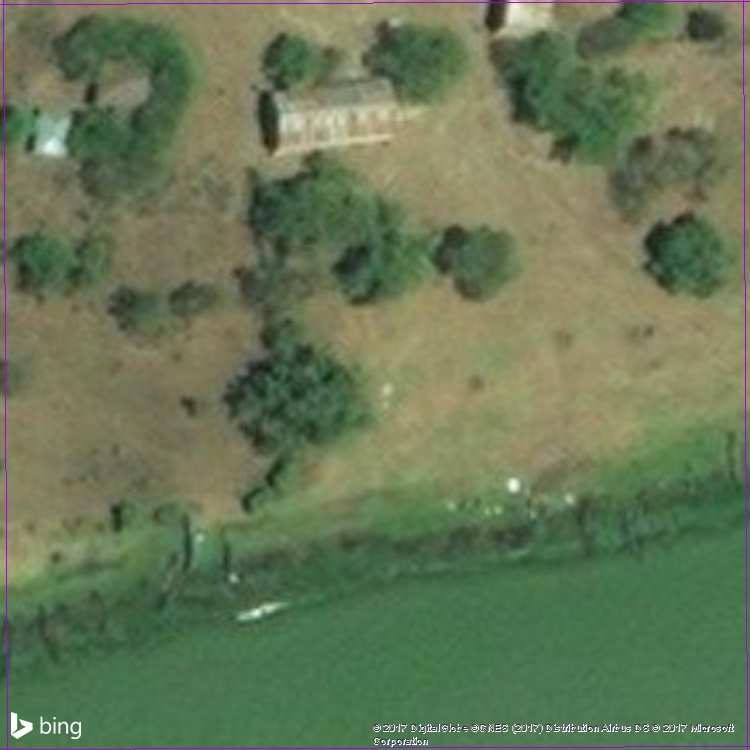boat: (26, 596, 68, 677), (632, 478, 672, 559), (610, 489, 647, 570), (568, 488, 601, 569), (52, 585, 82, 664), (171, 504, 202, 578), (150, 552, 183, 621), (79, 582, 114, 644), (722, 421, 747, 506), (215, 531, 246, 593), (678, 456, 706, 513)
